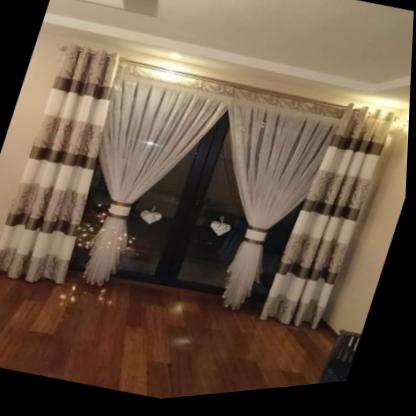Curtains: (85, 80, 341, 317), (0, 48, 117, 287), (265, 118, 391, 336)
Wooden floor: (0, 271, 341, 402)
